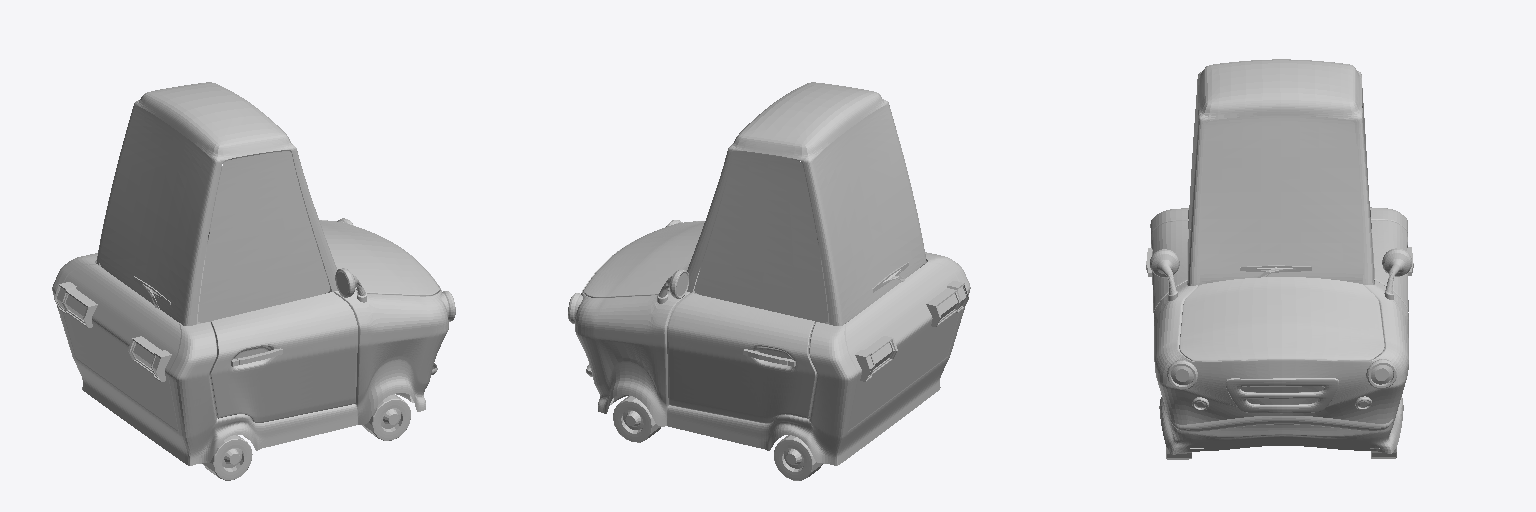
The model's file is cartoon_car_model_.obj.
3 views of the same model, side by side, from view 1: azimuth 30°, elevation 25°; view 2: azimuth 150°, elevation 25°; view 3: azimuth 270°, elevation 25° (orthographic).
Visible parts, largest first — view 1: CAR.001_Plane.013, wheel_Plane.003, wheel.003_Plane.005; view 2: CAR.001_Plane.013, wheel.001_Plane.002, wheel.002_Plane.004; view 3: CAR.001_Plane.013.
Part boxes in pixels (x1,y1,x2,y2): CAR.001_Plane.013: (52, 82, 455, 465); wheel_Plane.003: (362, 394, 410, 440); wheel.003_Plane.005: (202, 435, 252, 480); CAR.001_Plane.013: (568, 82, 970, 465); wheel.001_Plane.002: (613, 395, 660, 442); wheel.002_Plane.004: (774, 435, 823, 480); CAR.001_Plane.013: (1146, 59, 1413, 454).
Size of the model in its own units: 1.72 by 1.76 by 1.3.